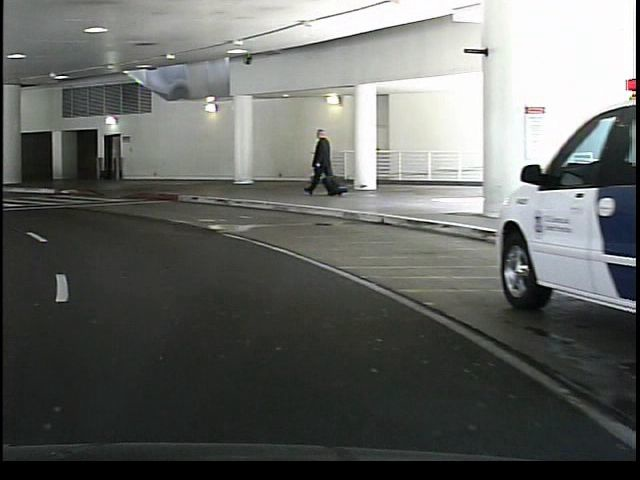person: (299, 126, 339, 204)
